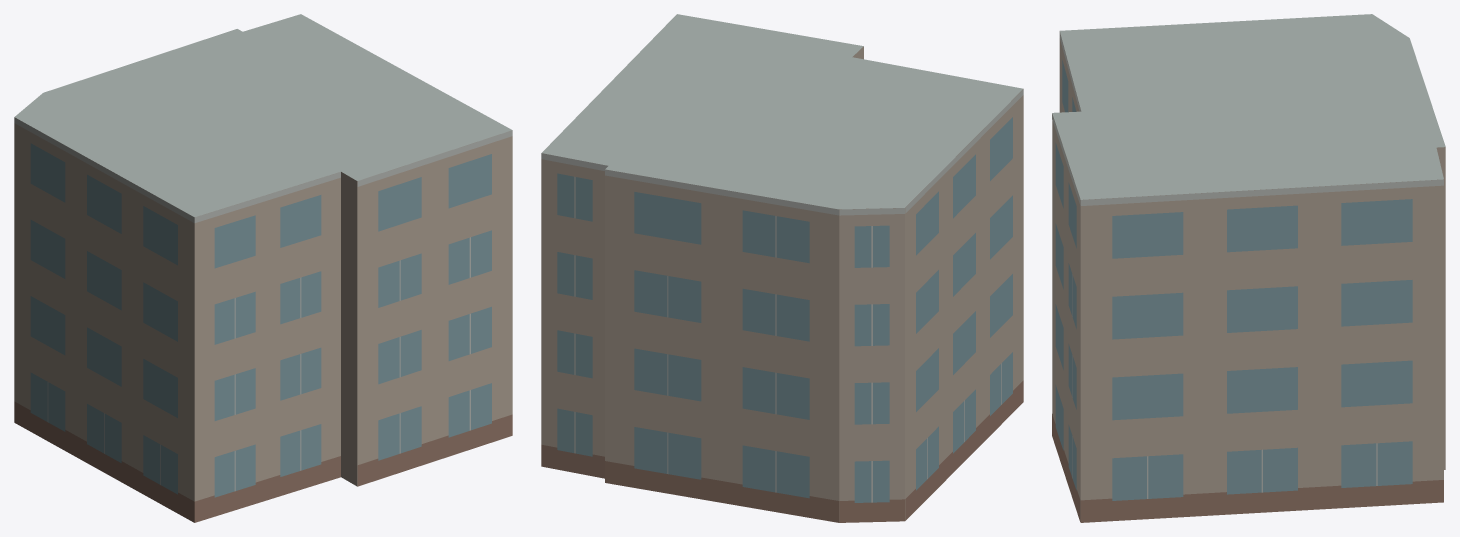
The model's file is survey-upis-33024367.glb.
3 views of the same model, side by side, from view 1: azimuth 30°, elevation 25°; view 2: azimuth 150°, elevation 25°; view 3: azimuth 270°, elevation 25° (orthographic). The views are drawn at different scales.
Visible parts, largest first — view 1: survey-upis-33024367.tmp; view 2: survey-upis-33024367.tmp; view 3: survey-upis-33024367.tmp.
Part boxes in pixels (x1,y1,x2,y2): survey-upis-33024367.tmp: (14, 14, 512, 522); survey-upis-33024367.tmp: (541, 14, 1023, 522); survey-upis-33024367.tmp: (1052, 14, 1445, 522).
Size of the model in its own units: 15.56 by 12.6 by 13.93.
